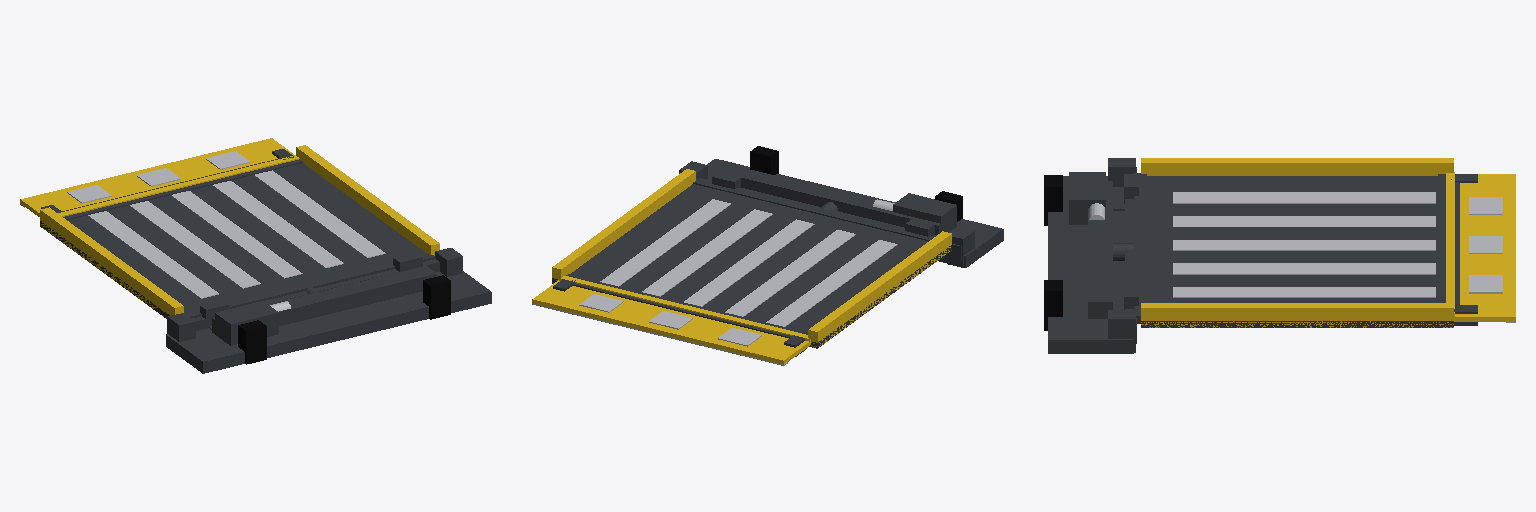
URDF robot description (dock_loading_ramp):
<robot name="dock_loading_ramp">
  <material name="painted_steel">
    <color rgba="0.27 0.29 0.31 1" />
    </material>
  <material name="safety_yellow">
    <color rgba="0.89 0.74 0.16 1" />
    </material>
  <material name="brushed_steel">
    <color rgba="0.76 0.77 0.79 1" />
    </material>
  <material name="rubber_black">
    <color rgba="0.08 0.08 0.09 1" />
    </material>
  <link name="base_frame">
    <inertial>
      <origin xyz="0 -0.28 0.05" rpy="0 0 0" />
      <mass value="820" />
      <inertia ixx="22.1127" ixy="0" ixz="0" iyy="427.767" iyz="0" izz="448.513" />
      </inertial>
    <visual>
      <origin xyz="0 -0.28 0.05" rpy="0 0 0" />
      <geometry>
        <box size="2.5 0.56 0.1" />
        </geometry>
      <material name="painted_steel">
        <color rgba="0.27 0.29 0.31 1" />
        </material>
      </visual>
    <visual>
      <origin xyz="0 -0.02 0.12" rpy="0 0 0" />
      <geometry>
        <box size="2.44 0.08 0.12" />
        </geometry>
      <material name="painted_steel">
        <color rgba="0.27 0.29 0.31 1" />
        </material>
      </visual>
    <visual>
      <origin xyz="1.16 -0.08 0.12" rpy="0 0 0" />
      <geometry>
        <box size="0.14 0.18 0.24" />
        </geometry>
      <material name="painted_steel">
        <color rgba="0.27 0.29 0.31 1" />
        </material>
      </visual>
    <visual>
      <origin xyz="-1.16 -0.08 0.12" rpy="0 0 0" />
      <geometry>
        <box size="0.14 0.18 0.24" />
        </geometry>
      <material name="painted_steel">
        <color rgba="0.27 0.29 0.31 1" />
        </material>
      </visual>
    <visual>
      <origin xyz="0.84 -0.02 0.2" rpy="0 0 0" />
      <geometry>
        <box size="0.2 0.1 0.12" />
        </geometry>
      <material name="painted_steel">
        <color rgba="0.27 0.29 0.31 1" />
        </material>
      </visual>
    <visual>
      <origin xyz="-0.84 -0.02 0.2" rpy="0 0 0" />
      <geometry>
        <box size="0.2 0.1 0.12" />
        </geometry>
      <material name="painted_steel">
        <color rgba="0.27 0.29 0.31 1" />
        </material>
      </visual>
    <visual>
      <origin xyz="0 -0.22 0.14" rpy="0 0 0" />
      <geometry>
        <box size="1.86 0.16 0.16" />
        </geometry>
      <material name="painted_steel">
        <color rgba="0.27 0.29 0.31 1" />
        </material>
      </visual>
    <visual>
      <origin xyz="0.82 -0.12 0.055" rpy="0 0 0" />
      <geometry>
        <box size="0.18 0.22 0.11" />
        </geometry>
      <material name="painted_steel">
        <color rgba="0.27 0.29 0.31 1" />
        </material>
      </visual>
    <visual>
      <origin xyz="-0.82 -0.12 0.055" rpy="0 0 0" />
      <geometry>
        <box size="0.18 0.22 0.11" />
        </geometry>
      <material name="painted_steel">
        <color rgba="0.27 0.29 0.31 1" />
        </material>
      </visual>
    <visual>
      <origin xyz="-0.72 -0.3 0.19" rpy="0 0 0" />
      <geometry>
        <box size="0.42 0.24 0.18" />
        </geometry>
      <material name="painted_steel">
        <color rgba="0.27 0.29 0.31 1" />
        </material>
      </visual>
    <visual>
      <origin xyz="-0.48 -0.24 0.2" rpy="0 1.5708 0" />
      <geometry>
        <cylinder radius="0.055" length="0.3" />
        </geometry>
      <material name="brushed_steel">
        <color rgba="0.76 0.77 0.79 1" />
        </material>
      </visual>
    <visual>
      <origin xyz="0 -0.1 0.14" rpy="1.5708 0 0" />
      <geometry>
        <cylinder radius="0.06" length="0.28" />
        </geometry>
      <material name="painted_steel">
        <color rgba="0.27 0.29 0.31 1" />
        </material>
      </visual>
    <visual>
      <origin xyz="0 -0.22 0.13" rpy="0 0 0" />
      <geometry>
        <box size="0.18 0.1 0.16" />
        </geometry>
      <material name="painted_steel">
        <color rgba="0.27 0.29 0.31 1" />
        </material>
      </visual>
    <visual>
      <origin xyz="0.8 -0.52 0.14" rpy="0 0 0" />
      <geometry>
        <box size="0.18 0.12 0.28" />
        </geometry>
      <material name="rubber_black">
        <color rgba="0.08 0.08 0.09 1" />
        </material>
      </visual>
    <visual>
      <origin xyz="-0.8 -0.52 0.14" rpy="0 0 0" />
      <geometry>
        <box size="0.18 0.12 0.28" />
        </geometry>
      <material name="rubber_black">
        <color rgba="0.08 0.08 0.09 1" />
        </material>
      </visual>
    <collision name="base_frame__visual_1">
      <origin xyz="0 -0.28 0.05" rpy="0 0 0" />
      <geometry>
        <box size="2.5 0.56 0.1" />
        </geometry>
      </collision>
    <collision name="base_frame__visual_2">
      <origin xyz="0 -0.02 0.12" rpy="0 0 0" />
      <geometry>
        <box size="2.44 0.08 0.12" />
        </geometry>
      </collision>
    <collision name="base_frame__visual_3">
      <origin xyz="1.16 -0.08 0.12" rpy="0 0 0" />
      <geometry>
        <box size="0.14 0.18 0.24" />
        </geometry>
      </collision>
    <collision name="base_frame__visual_4">
      <origin xyz="-1.16 -0.08 0.12" rpy="0 0 0" />
      <geometry>
        <box size="0.14 0.18 0.24" />
        </geometry>
      </collision>
    <collision name="base_frame__visual_5">
      <origin xyz="0.84 -0.02 0.2" rpy="0 0 0" />
      <geometry>
        <box size="0.2 0.1 0.12" />
        </geometry>
      </collision>
    <collision name="base_frame__visual_6">
      <origin xyz="-0.84 -0.02 0.2" rpy="0 0 0" />
      <geometry>
        <box size="0.2 0.1 0.12" />
        </geometry>
      </collision>
    <collision name="base_frame__visual_7">
      <origin xyz="0 -0.22 0.14" rpy="0 0 0" />
      <geometry>
        <box size="1.86 0.16 0.16" />
        </geometry>
      </collision>
    <collision name="base_frame__visual_8">
      <origin xyz="0.82 -0.12 0.055" rpy="0 0 0" />
      <geometry>
        <box size="0.18 0.22 0.11" />
        </geometry>
      </collision>
    <collision name="base_frame__visual_9">
      <origin xyz="-0.82 -0.12 0.055" rpy="0 0 0" />
      <geometry>
        <box size="0.18 0.22 0.11" />
        </geometry>
      </collision>
    <collision name="base_frame__visual_10">
      <origin xyz="-0.72 -0.3 0.19" rpy="0 0 0" />
      <geometry>
        <box size="0.42 0.24 0.18" />
        </geometry>
      </collision>
    <collision name="base_frame__visual_11">
      <origin xyz="-0.48 -0.24 0.2" rpy="0 1.5708 0" />
      <geometry>
        <cylinder radius="0.055" length="0.3" />
        </geometry>
      </collision>
    <collision name="base_frame__visual_12">
      <origin xyz="0 -0.1 0.14" rpy="1.5708 0 0" />
      <geometry>
        <cylinder radius="0.06" length="0.28" />
        </geometry>
      </collision>
    <collision name="base_frame__visual_13">
      <origin xyz="0 -0.22 0.13" rpy="0 0 0" />
      <geometry>
        <box size="0.18 0.1 0.16" />
        </geometry>
      </collision>
    <collision name="base_frame__visual_14">
      <origin xyz="0.8 -0.52 0.14" rpy="0 0 0" />
      <geometry>
        <box size="0.18 0.12 0.28" />
        </geometry>
      </collision>
    <collision name="base_frame__visual_15">
      <origin xyz="-0.8 -0.52 0.14" rpy="0 0 0" />
      <geometry>
        <box size="0.18 0.12 0.28" />
        </geometry>
      </collision>
    </link>
  <link name="deck">
    <inertial>
      <origin xyz="0 1.05 0.025" rpy="0 0 0" />
      <mass value="1350" />
      <inertia ixx="459.326" ixy="0" ixz="0" iyy="595.406" iyz="0" izz="1054.17" />
      </inertial>
    <visual>
      <origin xyz="0 0.04 0.03" rpy="0 0 0" />
      <geometry>
        <box size="2.18 0.08 0.06" />
        </geometry>
      <material name="painted_steel">
        <color rgba="0.27 0.29 0.31 1" />
        </material>
      </visual>
    <visual>
      <origin xyz="0 1.05 0.025" rpy="0 0 0" />
      <geometry>
        <box size="2.3 2.02 0.05" />
        </geometry>
      <material name="painted_steel">
        <color rgba="0.27 0.29 0.31 1" />
        </material>
      </visual>
    <visual>
      <origin xyz="1.11 1.05 0.07" rpy="0 0 0" />
      <geometry>
        <box size="0.08 2.02 0.14" />
        </geometry>
      <material name="safety_yellow">
        <color rgba="0.89 0.74 0.16 1" />
        </material>
      </visual>
    <visual>
      <origin xyz="-1.11 1.05 0.07" rpy="0 0 0" />
      <geometry>
        <box size="0.08 2.02 0.14" />
        </geometry>
      <material name="safety_yellow">
        <color rgba="0.89 0.74 0.16 1" />
        </material>
      </visual>
    <visual>
      <origin xyz="0.62 1.01 -0.03" rpy="0 0 0" />
      <geometry>
        <box size="0.18 1.86 0.1" />
        </geometry>
      <material name="painted_steel">
        <color rgba="0.27 0.29 0.31 1" />
        </material>
      </visual>
    <visual>
      <origin xyz="-0.62 1.01 -0.03" rpy="0 0 0" />
      <geometry>
        <box size="0.18 1.86 0.1" />
        </geometry>
      <material name="painted_steel">
        <color rgba="0.27 0.29 0.31 1" />
        </material>
      </visual>
    <visual>
      <origin xyz="0 0.93 -0.04" rpy="0 0 0" />
      <geometry>
        <box size="0.22 1.68 0.12" />
        </geometry>
      <material name="painted_steel">
        <color rgba="0.27 0.29 0.31 1" />
        </material>
      </visual>
    <visual>
      <origin xyz="0 2.01 0.03" rpy="0 0 0" />
      <geometry>
        <box size="2.18 0.1 0.06" />
        </geometry>
      <material name="painted_steel">
        <color rgba="0.27 0.29 0.31 1" />
        </material>
      </visual>
    <visual>
      <origin xyz="0 2.04 0.055" rpy="0 0 0" />
      <geometry>
        <box size="2.18 0.06 0.03" />
        </geometry>
      <material name="safety_yellow">
        <color rgba="0.89 0.74 0.16 1" />
        </material>
      </visual>
    <visual>
      <origin xyz="-0.72 1.1 0.052" rpy="0 0 0" />
      <geometry>
        <box size="0.16 1.7 0.008" />
        </geometry>
      <material name="brushed_steel">
        <color rgba="0.76 0.77 0.79 1" />
        </material>
      </visual>
    <visual>
      <origin xyz="-0.36 1.1 0.052" rpy="0 0 0" />
      <geometry>
        <box size="0.16 1.7 0.008" />
        </geometry>
      <material name="brushed_steel">
        <color rgba="0.76 0.77 0.79 1" />
        </material>
      </visual>
    <visual>
      <origin xyz="0 1.1 0.052" rpy="0 0 0" />
      <geometry>
        <box size="0.16 1.7 0.008" />
        </geometry>
      <material name="brushed_steel">
        <color rgba="0.76 0.77 0.79 1" />
        </material>
      </visual>
    <visual>
      <origin xyz="0.36 1.1 0.052" rpy="0 0 0" />
      <geometry>
        <box size="0.16 1.7 0.008" />
        </geometry>
      <material name="brushed_steel">
        <color rgba="0.76 0.77 0.79 1" />
        </material>
      </visual>
    <visual>
      <origin xyz="0.72 1.1 0.052" rpy="0 0 0" />
      <geometry>
        <box size="0.16 1.7 0.008" />
        </geometry>
      <material name="brushed_steel">
        <color rgba="0.76 0.77 0.79 1" />
        </material>
      </visual>
    <visual>
      <origin xyz="0 0.22 -0.06" rpy="1.5708 0 0" />
      <geometry>
        <cylinder radius="0.035" length="0.34" />
        </geometry>
      <material name="brushed_steel">
        <color rgba="0.76 0.77 0.79 1" />
        </material>
      </visual>
    <collision name="deck__visual_1">
      <origin xyz="0 0.04 0.03" rpy="0 0 0" />
      <geometry>
        <box size="2.18 0.08 0.06" />
        </geometry>
      </collision>
    <collision name="deck__visual_2">
      <origin xyz="0 1.05 0.025" rpy="0 0 0" />
      <geometry>
        <box size="2.3 2.02 0.05" />
        </geometry>
      </collision>
    <collision name="deck__visual_3">
      <origin xyz="1.11 1.05 0.07" rpy="0 0 0" />
      <geometry>
        <box size="0.08 2.02 0.14" />
        </geometry>
      </collision>
    <collision name="deck__visual_4">
      <origin xyz="-1.11 1.05 0.07" rpy="0 0 0" />
      <geometry>
        <box size="0.08 2.02 0.14" />
        </geometry>
      </collision>
    <collision name="deck__visual_5">
      <origin xyz="0.62 1.01 -0.03" rpy="0 0 0" />
      <geometry>
        <box size="0.18 1.86 0.1" />
        </geometry>
      </collision>
    <collision name="deck__visual_6">
      <origin xyz="-0.62 1.01 -0.03" rpy="0 0 0" />
      <geometry>
        <box size="0.18 1.86 0.1" />
        </geometry>
      </collision>
    <collision name="deck__visual_7">
      <origin xyz="0 0.93 -0.04" rpy="0 0 0" />
      <geometry>
        <box size="0.22 1.68 0.12" />
        </geometry>
      </collision>
    <collision name="deck__visual_8">
      <origin xyz="0 2.01 0.03" rpy="0 0 0" />
      <geometry>
        <box size="2.18 0.1 0.06" />
        </geometry>
      </collision>
    <collision name="deck__visual_9">
      <origin xyz="0 2.04 0.055" rpy="0 0 0" />
      <geometry>
        <box size="2.18 0.06 0.03" />
        </geometry>
      </collision>
    <collision name="deck__visual_10">
      <origin xyz="-0.72 1.1 0.052" rpy="0 0 0" />
      <geometry>
        <box size="0.16 1.7 0.008" />
        </geometry>
      </collision>
    <collision name="deck__visual_11">
      <origin xyz="-0.36 1.1 0.052" rpy="0 0 0" />
      <geometry>
        <box size="0.16 1.7 0.008" />
        </geometry>
      </collision>
    <collision name="deck__visual_12">
      <origin xyz="0 1.1 0.052" rpy="0 0 0" />
      <geometry>
        <box size="0.16 1.7 0.008" />
        </geometry>
      </collision>
    <collision name="deck__visual_13">
      <origin xyz="0.36 1.1 0.052" rpy="0 0 0" />
      <geometry>
        <box size="0.16 1.7 0.008" />
        </geometry>
      </collision>
    <collision name="deck__visual_14">
      <origin xyz="0.72 1.1 0.052" rpy="0 0 0" />
      <geometry>
        <box size="0.16 1.7 0.008" />
        </geometry>
      </collision>
    <collision name="deck__visual_15">
      <origin xyz="0 0.22 -0.06" rpy="1.5708 0 0" />
      <geometry>
        <cylinder radius="0.035" length="0.34" />
        </geometry>
      </collision>
    </link>
  <link name="lip">
    <inertial>
      <origin xyz="0 0.21 -0.0175" rpy="0 0 0" />
      <mass value="220" />
      <inertia ixx="3.25646" ixy="0" ixz="0" iyy="87.1498" iyz="0" izz="90.3613" />
      </inertial>
    <visual>
      <origin xyz="0 0.02 -0.005" rpy="0 0 0" />
      <geometry>
        <box size="2.1 0.08 0.03" />
        </geometry>
      <material name="painted_steel">
        <color rgba="0.27 0.29 0.31 1" />
        </material>
      </visual>
    <visual>
      <origin xyz="0 0.21 -0.0175" rpy="0 0 0" />
      <geometry>
        <box size="2.18 0.42 0.035" />
        </geometry>
      <material name="safety_yellow">
        <color rgba="0.89 0.74 0.16 1" />
        </material>
      </visual>
    <visual>
      <origin xyz="1 0.09 -0.03" rpy="0 0 0" />
      <geometry>
        <box size="0.1 0.18 0.1" />
        </geometry>
      <material name="painted_steel">
        <color rgba="0.27 0.29 0.31 1" />
        </material>
      </visual>
    <visual>
      <origin xyz="-1 0.09 -0.03" rpy="0 0 0" />
      <geometry>
        <box size="0.1 0.18 0.1" />
        </geometry>
      <material name="painted_steel">
        <color rgba="0.27 0.29 0.31 1" />
        </material>
      </visual>
    <visual>
      <origin xyz="0 0.39 -0.0375" rpy="0 0 0" />
      <geometry>
        <box size="2.18 0.06 0.015" />
        </geometry>
      <material name="brushed_steel">
        <color rgba="0.76 0.77 0.79 1" />
        </material>
      </visual>
    <visual>
      <origin xyz="-0.6 0.23 0.004" rpy="0 0 0" />
      <geometry>
        <box size="0.26 0.22 0.01" />
        </geometry>
      <material name="brushed_steel">
        <color rgba="0.76 0.77 0.79 1" />
        </material>
      </visual>
    <visual>
      <origin xyz="0 0.23 0.004" rpy="0 0 0" />
      <geometry>
        <box size="0.26 0.22 0.01" />
        </geometry>
      <material name="brushed_steel">
        <color rgba="0.76 0.77 0.79 1" />
        </material>
      </visual>
    <visual>
      <origin xyz="0.6 0.23 0.004" rpy="0 0 0" />
      <geometry>
        <box size="0.26 0.22 0.01" />
        </geometry>
      <material name="brushed_steel">
        <color rgba="0.76 0.77 0.79 1" />
        </material>
      </visual>
    <collision name="lip__visual_1">
      <origin xyz="0 0.02 -0.005" rpy="0 0 0" />
      <geometry>
        <box size="2.1 0.08 0.03" />
        </geometry>
      </collision>
    <collision name="lip__visual_2">
      <origin xyz="0 0.21 -0.0175" rpy="0 0 0" />
      <geometry>
        <box size="2.18 0.42 0.035" />
        </geometry>
      </collision>
    <collision name="lip__visual_3">
      <origin xyz="1 0.09 -0.03" rpy="0 0 0" />
      <geometry>
        <box size="0.1 0.18 0.1" />
        </geometry>
      </collision>
    <collision name="lip__visual_4">
      <origin xyz="-1 0.09 -0.03" rpy="0 0 0" />
      <geometry>
        <box size="0.1 0.18 0.1" />
        </geometry>
      </collision>
    <collision name="lip__visual_5">
      <origin xyz="0 0.39 -0.0375" rpy="0 0 0" />
      <geometry>
        <box size="2.18 0.06 0.015" />
        </geometry>
      </collision>
    <collision name="lip__visual_6">
      <origin xyz="-0.6 0.23 0.004" rpy="0 0 0" />
      <geometry>
        <box size="0.26 0.22 0.01" />
        </geometry>
      </collision>
    <collision name="lip__visual_7">
      <origin xyz="0 0.23 0.004" rpy="0 0 0" />
      <geometry>
        <box size="0.26 0.22 0.01" />
        </geometry>
      </collision>
    <collision name="lip__visual_8">
      <origin xyz="0.6 0.23 0.004" rpy="0 0 0" />
      <geometry>
        <box size="0.26 0.22 0.01" />
        </geometry>
      </collision>
    </link>
  <joint name="deck_hinge" type="revolute">
    <origin xyz="0 0 0.14" rpy="0 0 0" />
    <parent link="base_frame" />
    <child link="deck" />
    <axis xyz="1 0 0" />
    <limit effort="8000" velocity="0.5" lower="0" upper="0.52" />
    </joint>
  <joint name="lip_hinge" type="revolute">
    <origin xyz="0 2.04 0.05" rpy="0 0 0" />
    <parent link="deck" />
    <child link="lip" />
    <axis xyz="1 0 0" />
    <limit effort="4000" velocity="0.7" lower="-0.85" upper="0.1" />
    </joint>
  </robot>

--- Render facts (derived) ---
3 views of the same robot in one strip: view 1: azimuth 30°, elevation 25°; view 2: azimuth 150°, elevation 25°; view 3: azimuth 270°, elevation 25° (orthographic).
Robot: dock_loading_ramp — 3 links, 2 joints (2 revolute); root link base_frame; default pose: every joint at zero.
Links seen in each view (by area): view 1: deck, base_frame, lip; view 2: deck, base_frame, lip; view 3: deck, base_frame, lip.
Link boxes in pixels (bbox=[...]): deck: bbox=[40, 145, 439, 318]; base_frame: bbox=[166, 248, 491, 373]; lip: bbox=[20, 138, 293, 216]; deck: bbox=[552, 169, 951, 348]; base_frame: bbox=[679, 146, 1003, 267]; lip: bbox=[532, 279, 810, 365]; deck: bbox=[1134, 158, 1454, 327]; base_frame: bbox=[1044, 158, 1138, 353]; lip: bbox=[1451, 174, 1515, 325].
Size in the robot's own frame: 2.5 by 3.04 by 0.28 metres.
Geometry: primitives only (box / cylinder / sphere), no mesh files.
